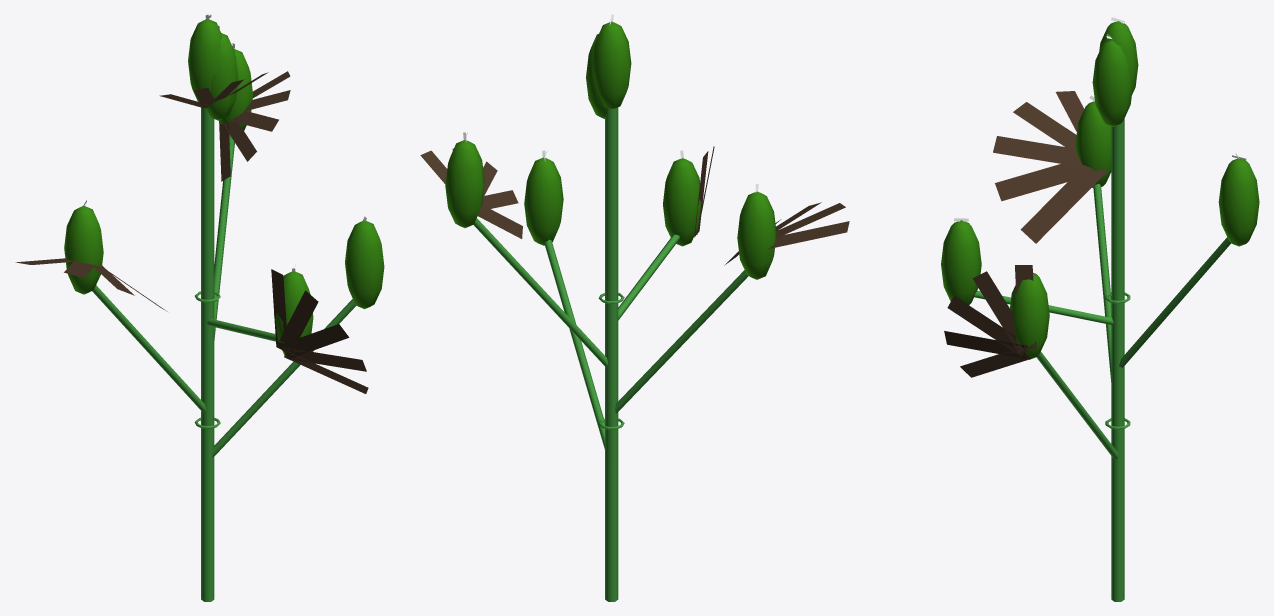
File: plant-stage--flush.glb
3 views of the same model, side by side, from view 1: azimuth 30°, elevation 25°; view 2: azimuth 150°, elevation 25°; view 3: azimuth 270°, elevation 25° (orthographic).
Visible parts, largest first — view 1: plant_stem, plant_buds, plant_leaves_fade; view 2: plant_buds, plant_stem, plant_leaves_fade; view 3: plant_buds, plant_leaves_fade, plant_stem.
Part boxes in pixels (left/top/right/bottom): plant_stem: left=92, top=107, right=355, bottom=601; plant_buds: left=64, top=19, right=384, bottom=354; plant_leaves_fade: left=15, top=71, right=368, bottom=393; plant_buds: left=445, top=21, right=776, bottom=279; plant_stem: left=473, top=107, right=748, bottom=601; plant_leaves_fade: left=420, top=146, right=849, bottom=265; plant_buds: left=941, top=21, right=1259, bottom=359; plant_leaves_fade: left=944, top=91, right=1107, bottom=377; plant_stem: left=974, top=118, right=1231, bottom=601.
Bounding box in the file's own units: 0.4948 × 0.79 × 0.4667.
